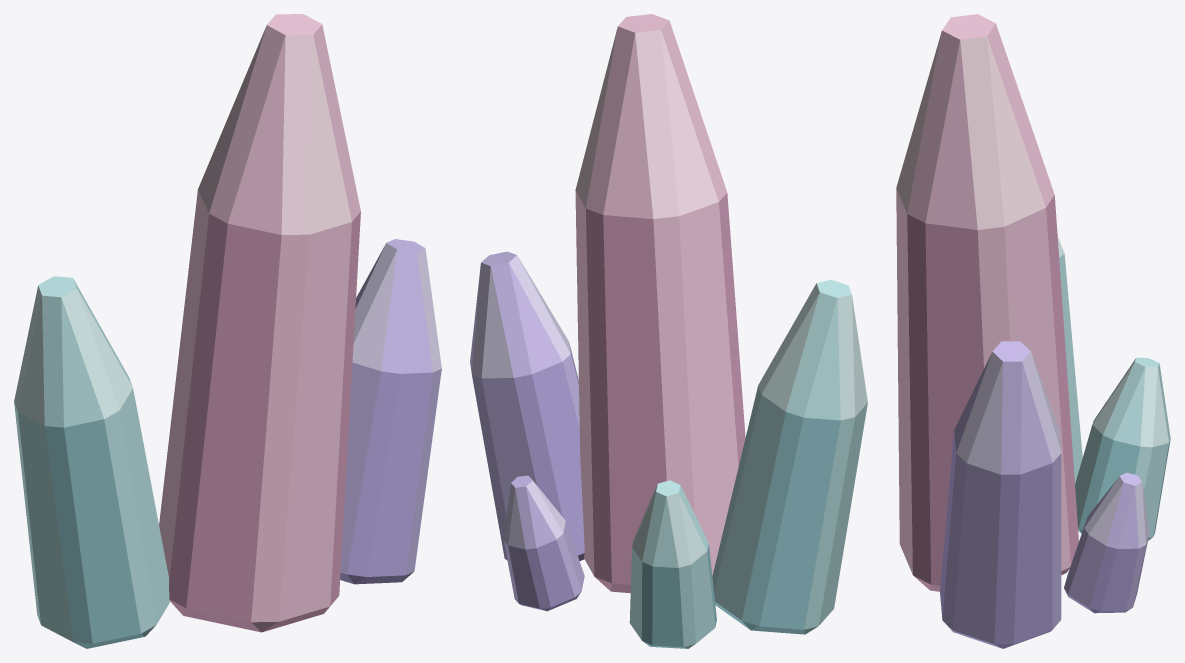
The model's file is crystal2.glb.
The picture shows the model from 3 angles, left to right: view 1: azimuth 30°, elevation 25°; view 2: azimuth 150°, elevation 25°; view 3: azimuth 270°, elevation 25°; orthographic projection. The views are drawn at different scales.
Visible parts, largest first — view 1: c2_main, c2_second, c2_third; view 2: c2_main, c2_second, c2_third, c2_small, c2_tiny; view 3: c2_main, c2_third, c2_small, c2_tiny, c2_second.
Part boxes in pixels (left/top/right/bottom): c2_main: left=159, top=14, right=360, bottom=632; c2_second: left=14, top=276, right=170, bottom=648; c2_third: left=340, top=239, right=441, bottom=584; c2_main: left=575, top=14, right=745, bottom=593; c2_second: left=712, top=279, right=867, bottom=634; c2_third: left=470, top=251, right=584, bottom=560; c2_small: left=629, top=480, right=716, bottom=648; c2_tiny: left=503, top=475, right=584, bottom=611; c2_main: left=896, top=14, right=1078, bottom=591; c2_third: left=940, top=341, right=1061, bottom=648; c2_small: left=1075, top=357, right=1170, bottom=540; c2_tiny: left=1064, top=472, right=1149, bottom=613; c2_second: left=1057, top=236, right=1082, bottom=483.
Bounding box in the file's own units: 0.9363 × 1.27 × 0.5554.
